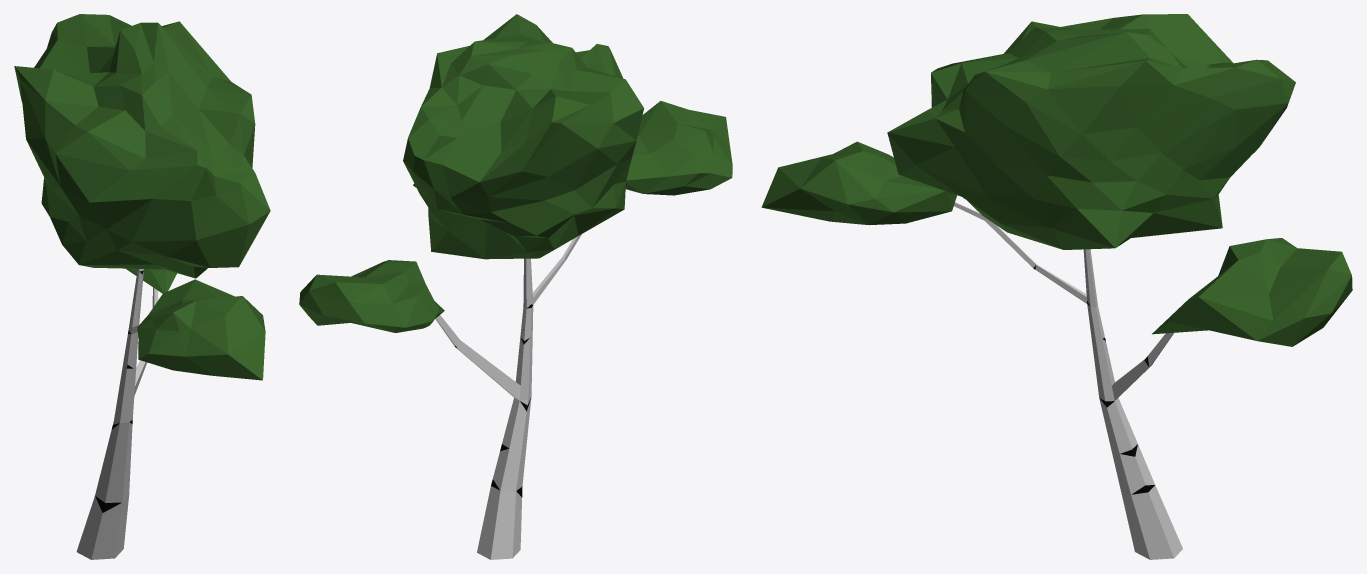
Rendered from Tree_Birch_2.fbx.
3 renders of one model, left to right at view 1: azimuth 30°, elevation 25°; view 2: azimuth 150°, elevation 25°; view 3: azimuth 270°, elevation 25°, orthographic. The views are drawn at different scales.
Visible parts, largest first — view 1: Tree Birch 2; view 2: Tree Birch 2; view 3: Tree Birch 2.
Part boxes in pixels (x1=…): Tree Birch 2: x1=14, y1=14, x2=270, y2=559; Tree Birch 2: x1=299, y1=14, x2=732, y2=559; Tree Birch 2: x1=761, y1=14, x2=1352, y2=559.
Bounding box in the file's own units: 3372 × 1680 × 3394.
